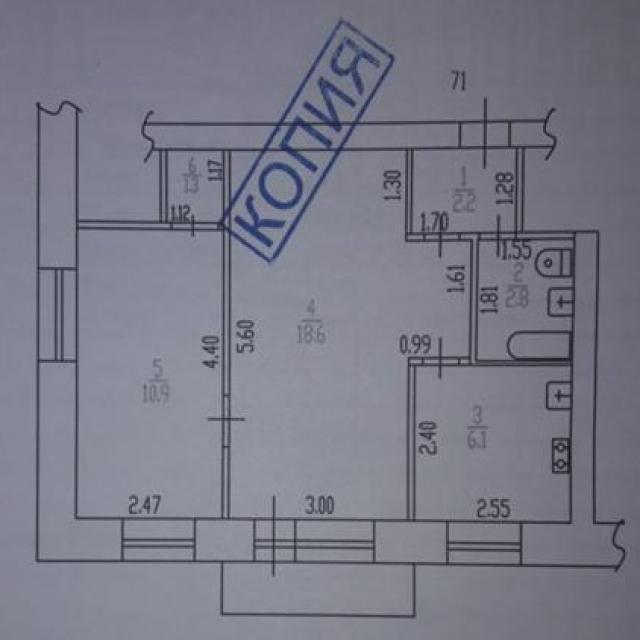Bathrooms: (480, 241, 570, 358)
Corridors: (223, 566, 412, 613), (414, 150, 515, 230), (168, 153, 222, 220)
Doors: (460, 94, 510, 171), (255, 493, 294, 578), (204, 394, 248, 448), (423, 214, 461, 261), (422, 335, 460, 381), (480, 213, 517, 258), (171, 213, 218, 239)
LBwalls: (35, 364, 121, 564), (37, 100, 79, 267), (522, 520, 626, 568), (377, 520, 447, 566), (197, 518, 255, 564)
Offices: (231, 152, 469, 518), (79, 230, 221, 516), (418, 368, 568, 519)
Walls: (458, 232, 571, 367), (140, 120, 461, 151), (78, 150, 172, 231), (571, 230, 595, 521), (516, 147, 574, 241), (218, 150, 230, 396), (407, 356, 424, 521), (405, 150, 424, 241), (510, 119, 558, 148), (221, 448, 231, 517)
Windows: (37, 267, 78, 364), (294, 519, 376, 565), (447, 520, 523, 566), (120, 517, 196, 563)
